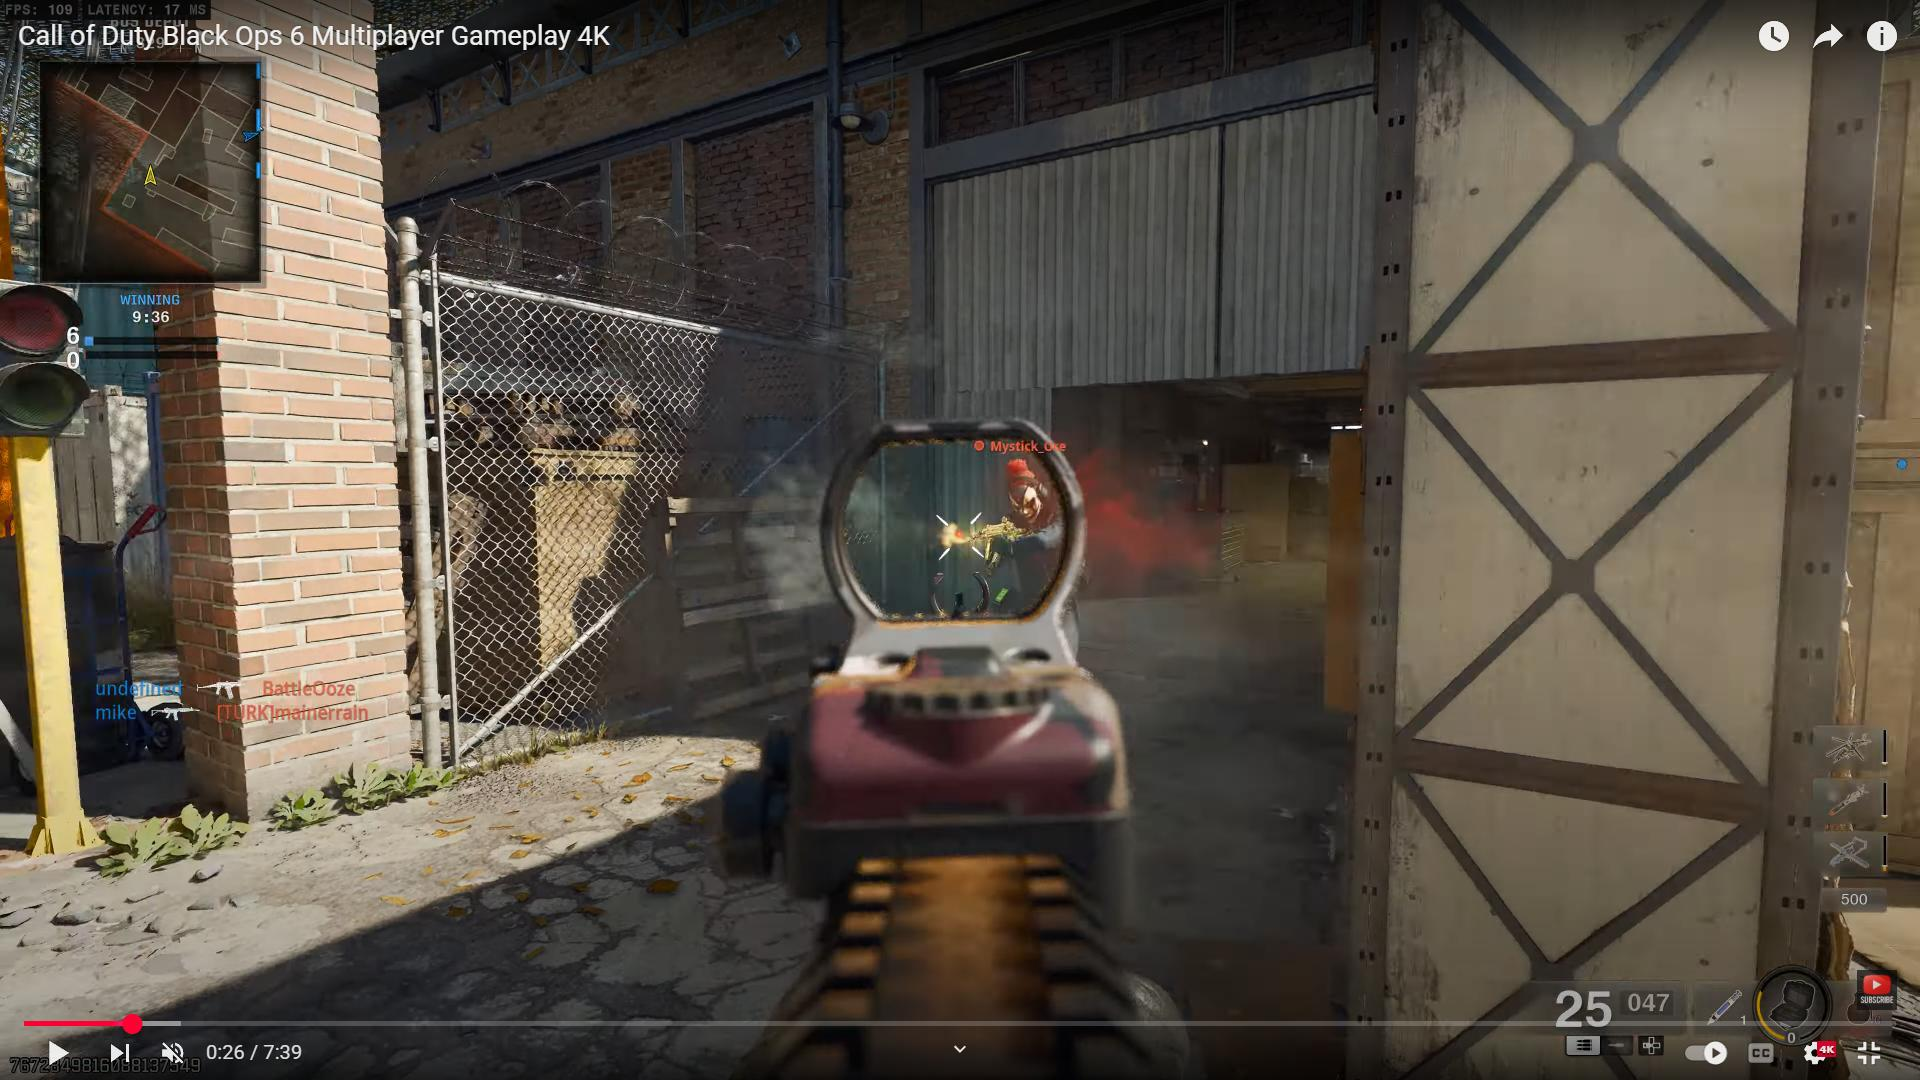Enemy: (978, 460, 1056, 582)
